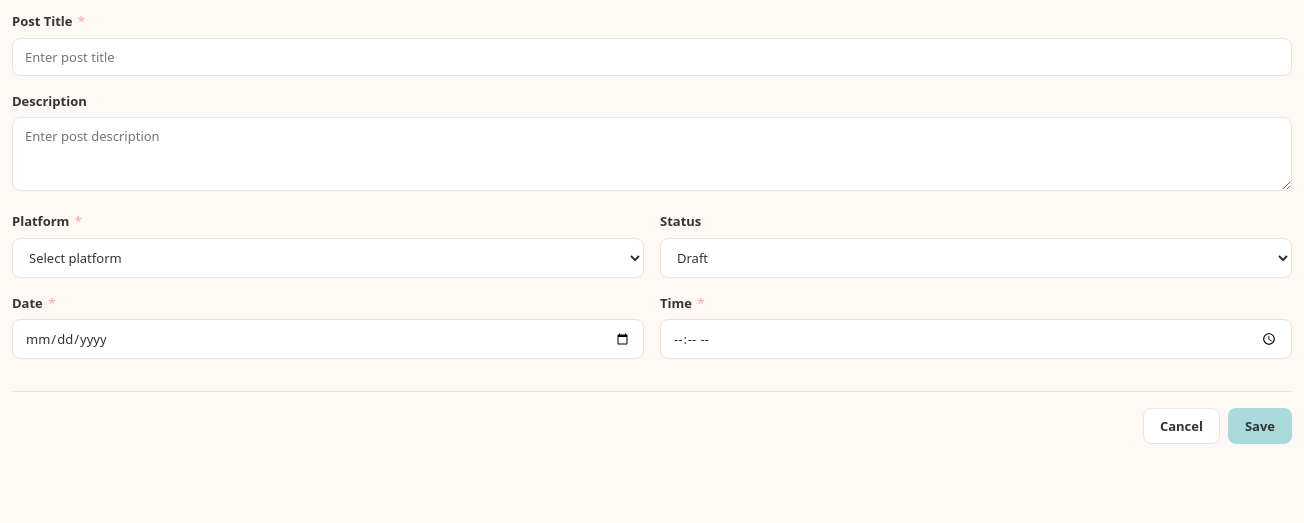
PostForm › shows required validation errors when submitting empty form
The image size is (1304, 523).
Click the button with test id "btn-submit" at (1260, 426), box [1228,408,1292,444]
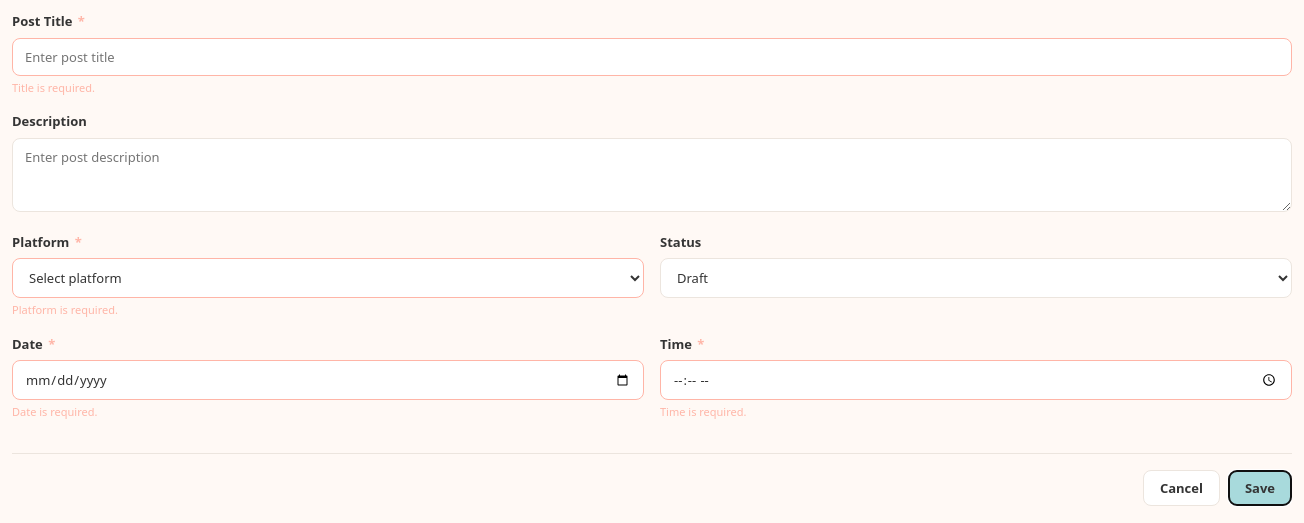
Expected: the text with test id "error-title" shows "Title is required", [12,80,95,94]
Expected: the text with test id "error-platform" shows "Platform is required", [12,302,118,317]
Expected: the text with test id "error-date" shows "Date is required", [12,404,97,419]
